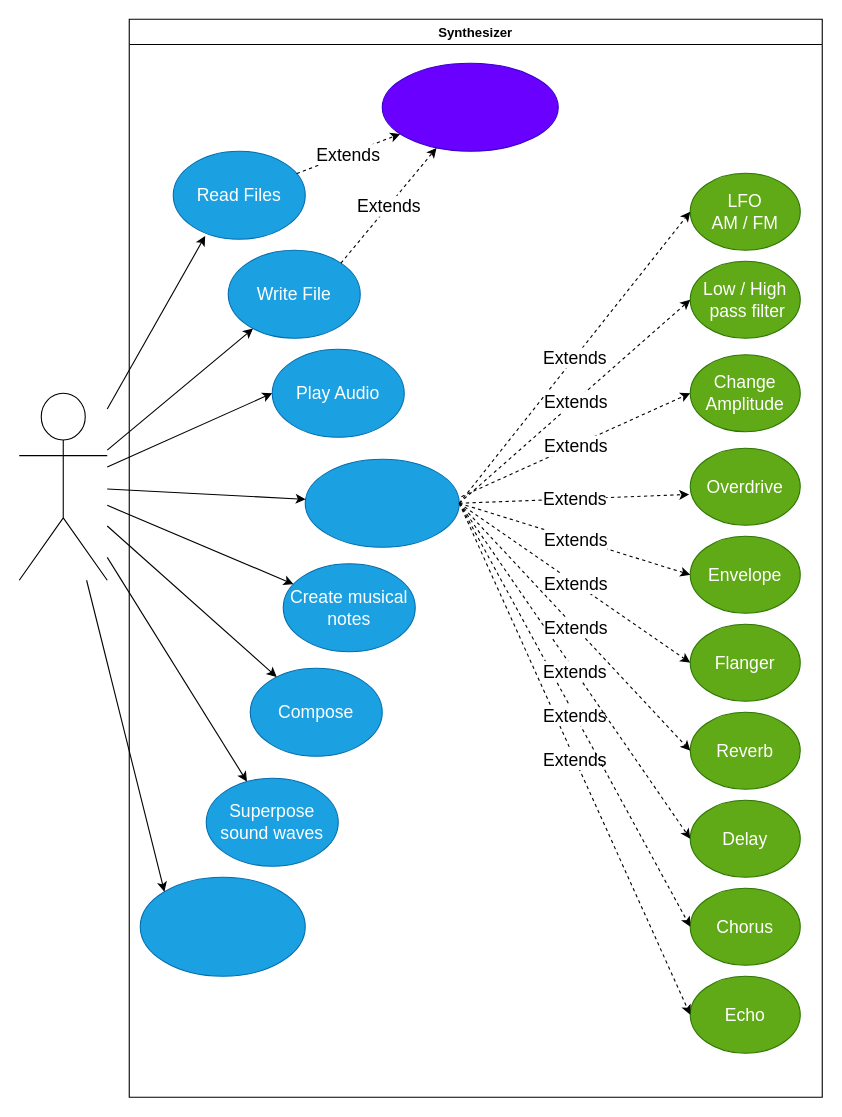
This 842x1117 diagram has some shape labels left out. The centre of each missing label's shape, as x and y in pixels:
"Apply Filters / Special effects" goes at pixel 381 502.
"Compress / Decompress mp3" goes at pixel 469 106.
"User" goes at pixel 62 486.
"Visualize sound waves" goes at pixel 222 926.
